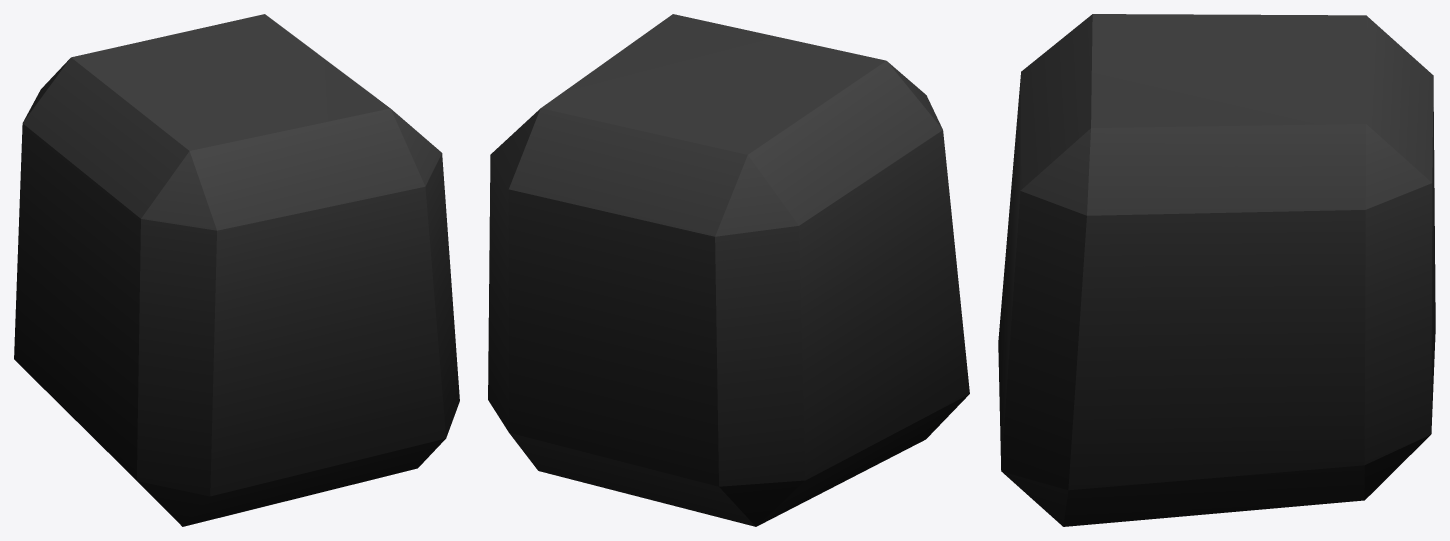
File: Brick_Small_SH_02.fbx
3 views of the same model, side by side, from view 1: azimuth 30°, elevation 25°; view 2: azimuth 150°, elevation 25°; view 3: azimuth 270°, elevation 25° (orthographic). The views are drawn at different scales.
Parts seen in each view (by area): view 1: Brick_Small_SH_02; view 2: Brick_Small_SH_02; view 3: Brick_Small_SH_02.
Part boxes in pixels (bbox=[...]): Brick_Small_SH_02: bbox=[14, 14, 459, 526]; Brick_Small_SH_02: bbox=[488, 14, 969, 526]; Brick_Small_SH_02: bbox=[998, 14, 1435, 526].
Bounding box in the file's own units: 18.65 × 19.85 × 19.73.
